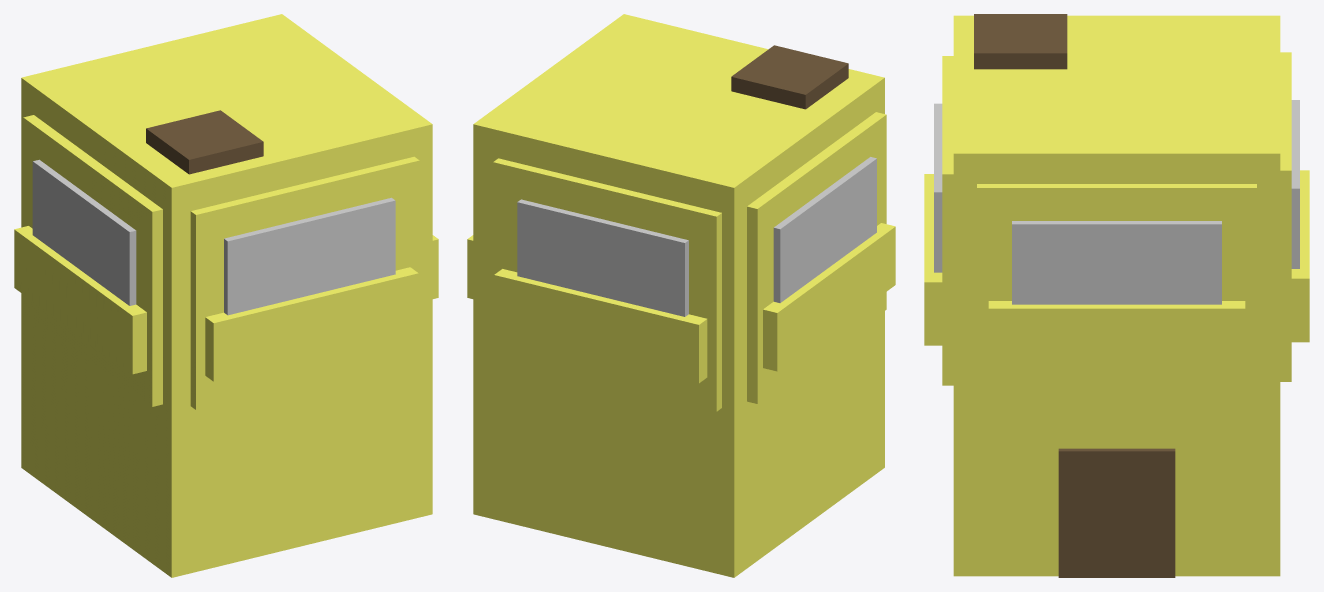
Rendered from LargeHouseCube.fbx.
The picture shows the model from 3 angles, left to right: view 1: azimuth 30°, elevation 25°; view 2: azimuth 150°, elevation 25°; view 3: azimuth 270°, elevation 25°; orthographic projection. The views are drawn at different scales.
Visible parts, largest first — view 1: LessVertexLHouse; view 2: LessVertexLHouse; view 3: LessVertexLHouse.
Boxes of the visible parts, x1=… form: LessVertexLHouse: x1=14, y1=14, x2=438, y2=577; LessVertexLHouse: x1=467, y1=14, x2=895, y2=577; LessVertexLHouse: x1=924, y1=14, x2=1309, y2=577.
Size of the model in its own units: 0.827 by 1.04 by 0.8268.
